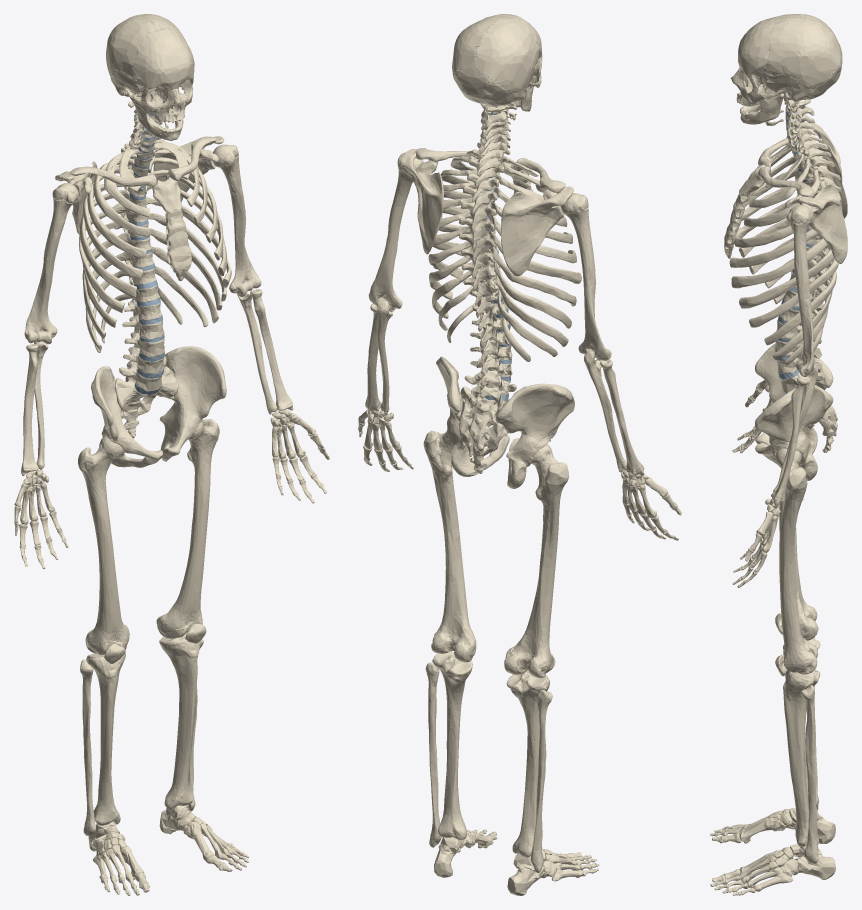
The picture shows the model from 3 angles, left to right: view 1: azimuth 30°, elevation 25°; view 2: azimuth 150°, elevation 25°; view 3: azimuth 270°, elevation 25°; orthographic projection. The views are drawn at different scales.
Parts seen in each view (by area): view 1: femur__right_femur, femur__left_femur, pelvis__left_hip_bone, lower_leg__left_tibia, skull__frontal_bone, lower_leg__right_tibia, humerus__right_humerus, humerus__left_humerus, pelvis__right_hip_bone, skull__right_parietal_bone, sacrum__sacrum, lower_leg__right_fibula (+17 smaller); view 2: femur__right_femur, femur__left_femur, pelvis__right_hip_bone, scapulae__right_scapula, skull__right_parietal_bone, lower_leg__left_tibia, lower_leg__right_tibia, humerus__right_humerus, sacrum__sacrum, humerus__left_humerus, pelvis__left_hip_bone, scapulae__left_scapula (+15 smaller); view 3: femur__left_femur, skull__left_parietal_bone, pelvis__left_hip_bone, lower_leg__left_tibia, humerus__left_humerus, scapulae__left_scapula, lower_leg__left_fibula, pelvis__right_hip_bone, skull__frontal_bone, forearm__left_radius, femur__right_femur, ribs__left_seventh_rib (+26 smaller).
Boxes of the visible parts, x1,y1,x2,y2 form: femur__right_femur: (78,436,129,655); femur__left_femur: (156,419,219,638); pelvis__left_hip_bone: (159,346,226,461); lower_leg__left_tibia: (159,632,201,810); skull__frontal_bone: (133,28,194,91); lower_leg__right_tibia: (86,652,125,825); humerus__right_humerus: (24,183,78,344); humerus__left_humerus: (212,144,261,296); pelvis__right_hip_bone: (91,366,162,467); skull__right_parietal_bone: (106,15,157,79); sacrum__sacrum: (115,366,178,438); lower_leg__right_fibula: (80,659,95,835); femur__right_femur: (504,444,568,677); femur__left_femur: (423,430,476,662); pelvis__right_hip_bone: (495,383,574,488); scapulae__right_scapula: (501,186,573,276); skull__right_parietal_bone: (474,16,539,92); lower_leg__left_tibia: (432,651,472,839); lower_leg__right_tibia: (506,671,549,857); humerus__right_humerus: (561,193,611,360); sacrum__sacrum: (459,386,507,473); humerus__left_humerus: (368,152,423,311); pelvis__left_hip_bone: (436,356,509,476); scapulae__left_scapula: (400,149,443,254); femur__left_femur: (775,448,818,674); skull__left_parietal_bone: (763,17,840,89); pelvis__left_hip_bone: (755,385,833,480); lower_leg__left_tibia: (783,669,820,846); humerus__left_humerus: (786,205,814,376); scapulae__left_scapula: (785,183,847,263); lower_leg__left_fibula: (800,685,818,863); pelvis__right_hip_bone: (755,343,833,453); skull__frontal_bone: (738,17,774,78); forearm__left_radius: (771,376,808,506); femur__right_femur: (779,497,818,640); ribs__left_seventh_rib: (739,249,834,308).
Bounding box in the file's own units: 648 × 1642 × 242.
